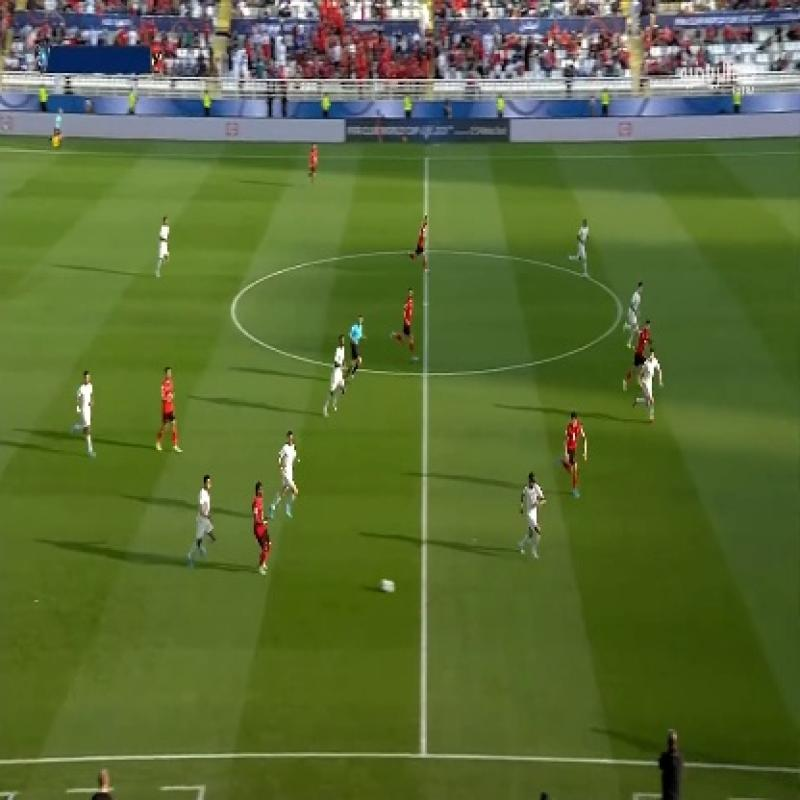13: (417, 144, 435, 168)
14: (418, 238, 439, 264)
15: (412, 356, 436, 390)
16: (406, 728, 440, 770)
c: (218, 290, 248, 324), (604, 297, 635, 327)
